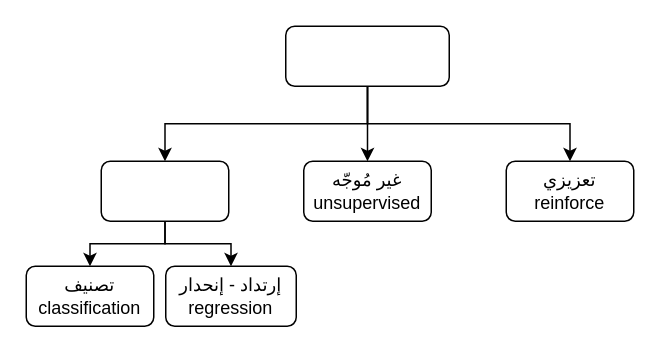
This 660x353 diagram has some shape labels left out. The shapes that lost their labels are listed below. From the top down, each one's box as (x1, y1, x2, y2) in pixels, then its label:
(284, 25, 449, 86): تعلم الآلة machine lerning
(100, 160, 229, 221): مُوجّه supervised
